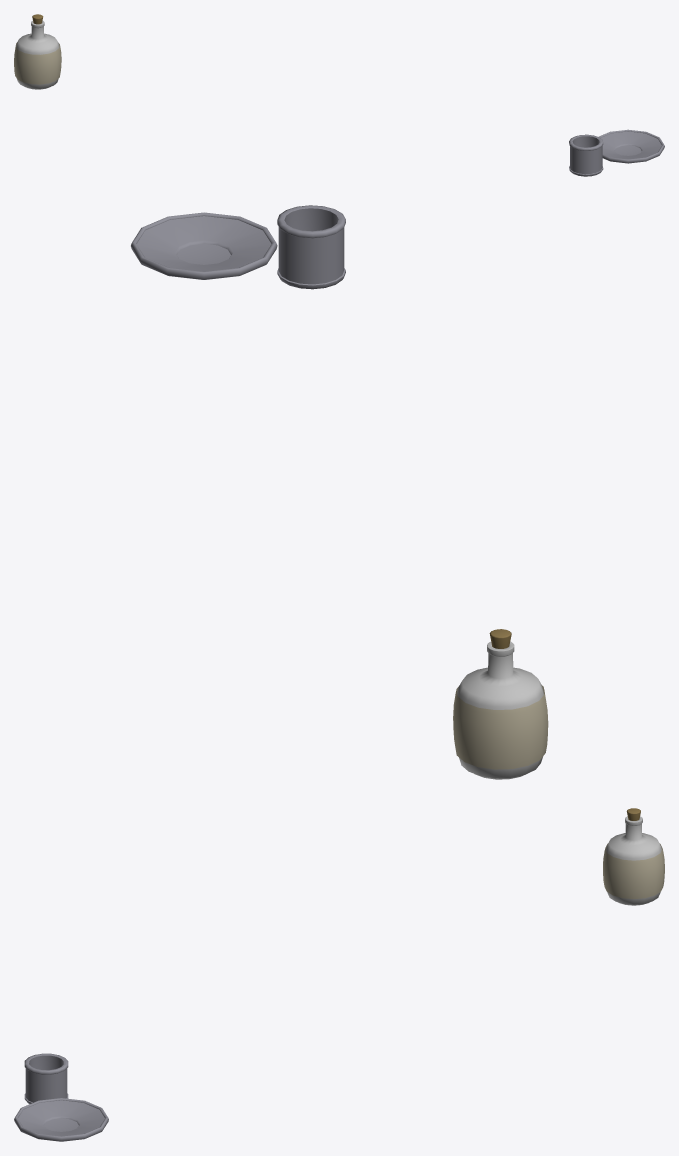
File: Vessels.fbx
3 renders of one model, top to bottom at view 1: azimuth 30°, elevation 25°; view 2: azimuth 150°, elevation 25°; view 3: azimuth 270°, elevation 25°, orthographic. The views are drawn at different scales.
Parts seen in each view (by area): view 1: Plate, Label, Cup, Bottle; view 2: Plate, Label, Cup, Bottle; view 3: Plate, Label, Cup, Bottle.
Boxes of the visible parts, box(x1,y1,x2,y2) form: Plate: box(598, 129, 664, 163); Label: box(14, 43, 61, 84); Cup: box(569, 134, 603, 176); Bottle: box(16, 20, 59, 89); Plate: box(131, 212, 277, 279); Label: box(453, 685, 548, 769); Cup: box(277, 205, 345, 289); Bottle: box(457, 641, 543, 779); Plate: box(14, 1098, 108, 1141); Label: box(603, 843, 664, 899); Cup: box(24, 1053, 68, 1103); Bottle: box(605, 816, 661, 905).
Size of the model in its own units: 252 by 37.94 by 260.
